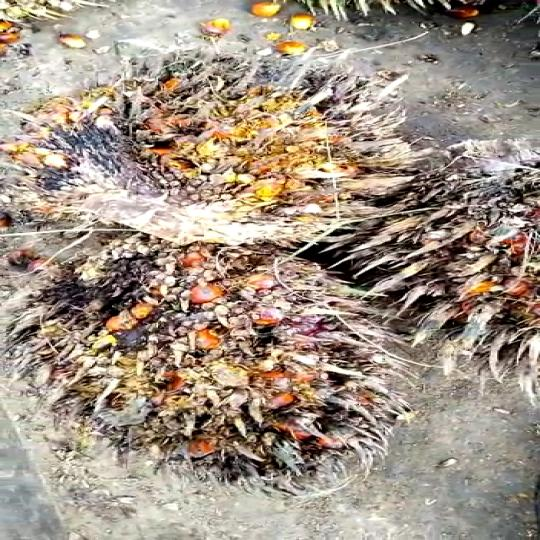terlalu masak: (0, 245, 378, 474), (2, 63, 429, 247)
